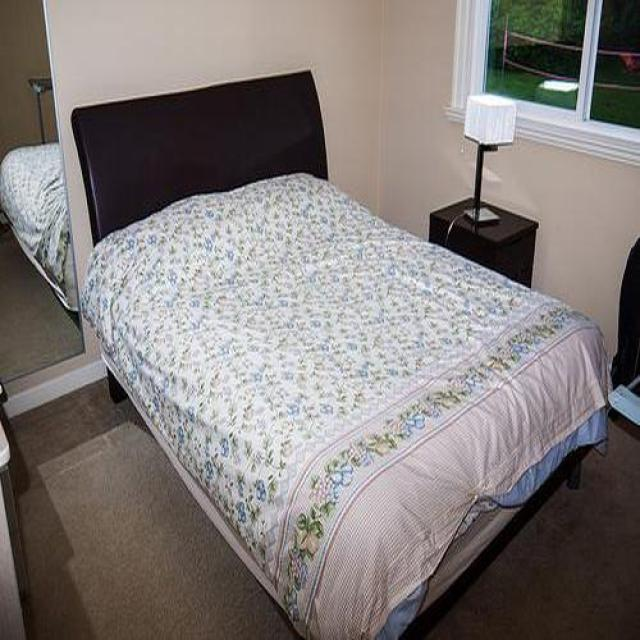bed: (69, 70, 612, 640)
